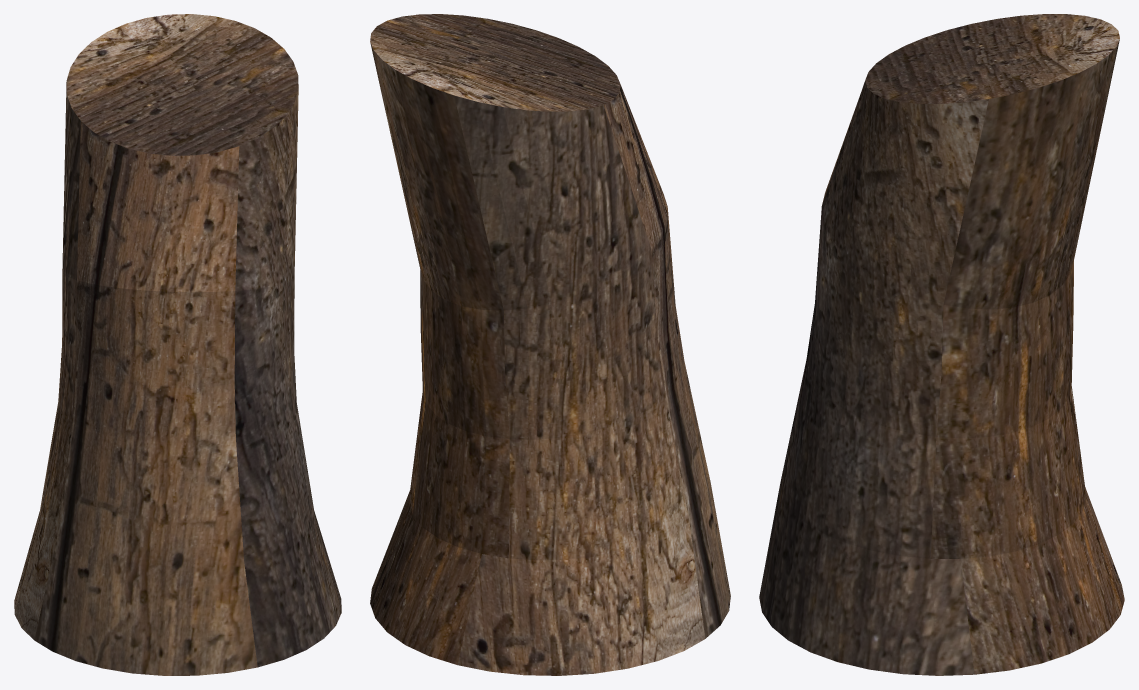
File: post.dae
3 renders of one model, left to right at view 1: azimuth 30°, elevation 25°; view 2: azimuth 150°, elevation 25°; view 3: azimuth 270°, elevation 25°, orthographic. The views are drawn at different scales.
Parts seen in each view (by area): view 1: post; view 2: post; view 3: post.
Boxes of the visible parts, x1,y1,x2,y2 form: post: [14, 14, 341, 675]; post: [370, 14, 730, 675]; post: [759, 14, 1124, 675].
Size of the model in its own units: 2 by 2 by 3.5.
1 material, 1 textured.
